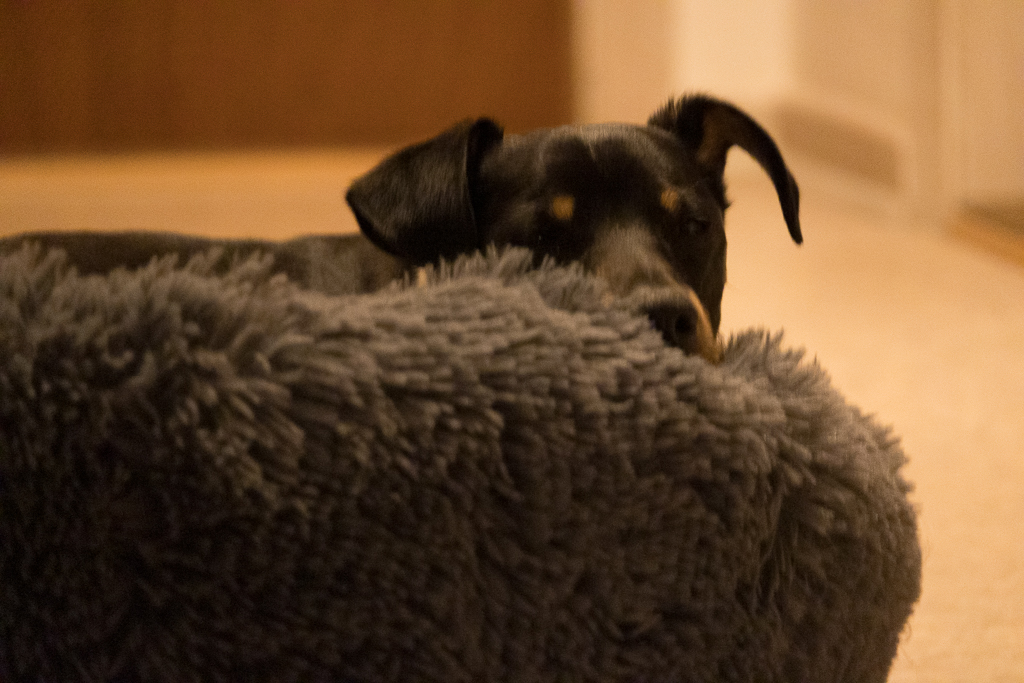Dog: (0, 89, 814, 384)
